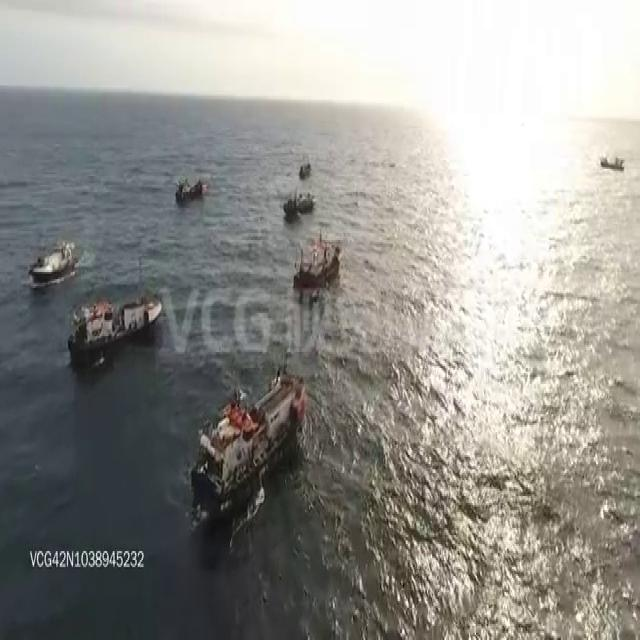houseboat: (70, 281, 163, 369), (29, 234, 80, 281), (298, 230, 340, 285), (283, 187, 315, 219), (173, 173, 205, 201), (599, 153, 626, 170), (299, 153, 312, 175)
passenger ship: (191, 359, 306, 508)
